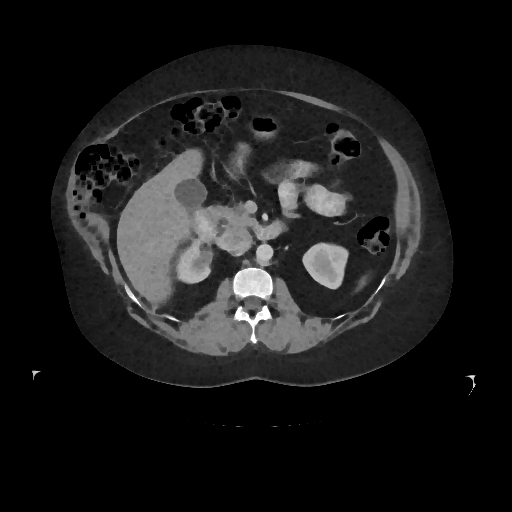Lesion: (189, 248, 217, 274)
